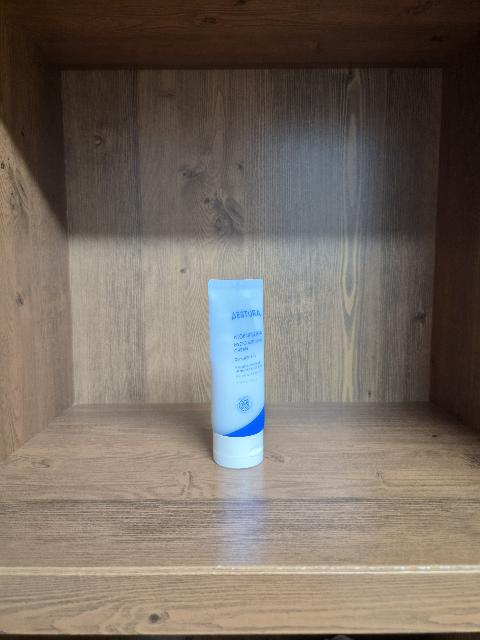handcream: (208, 279, 265, 469)
